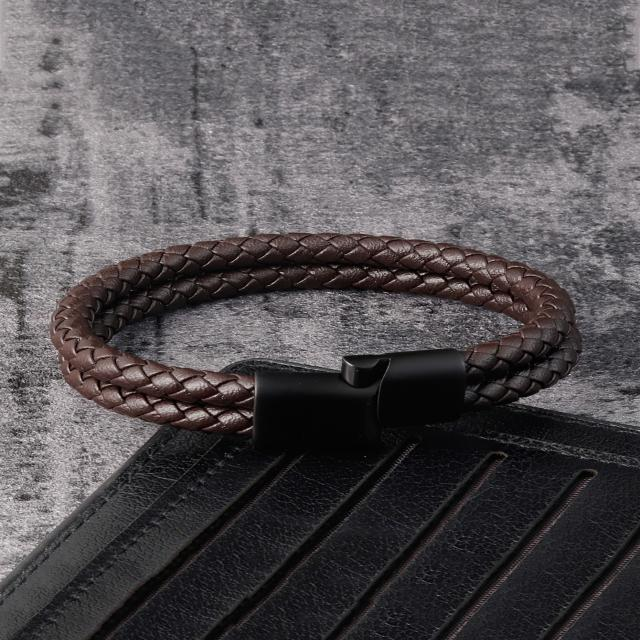bracelet: (0, 153, 640, 512)
